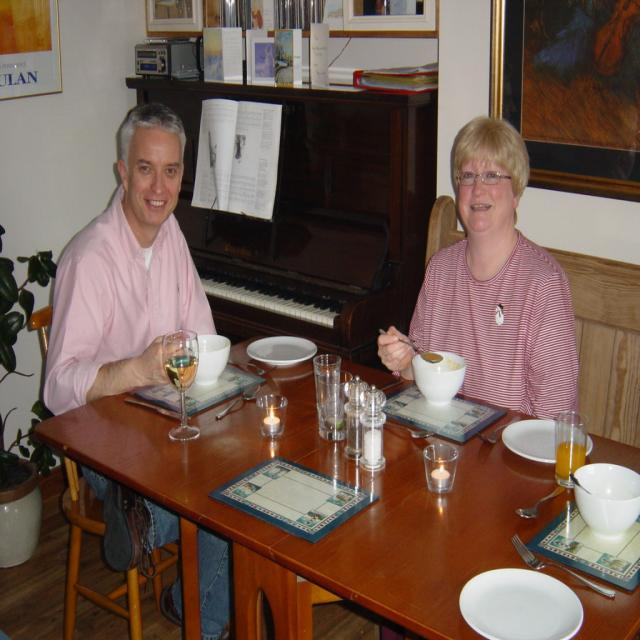ceramic plate: (453, 545, 599, 640), (500, 403, 600, 480), (243, 323, 315, 375)
